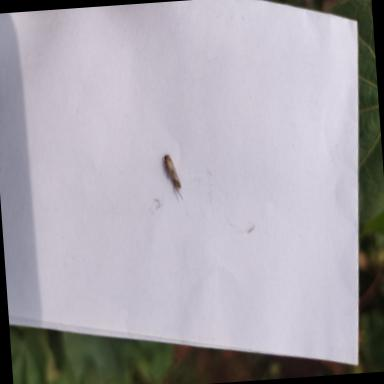pbw: (164, 153, 184, 201)
